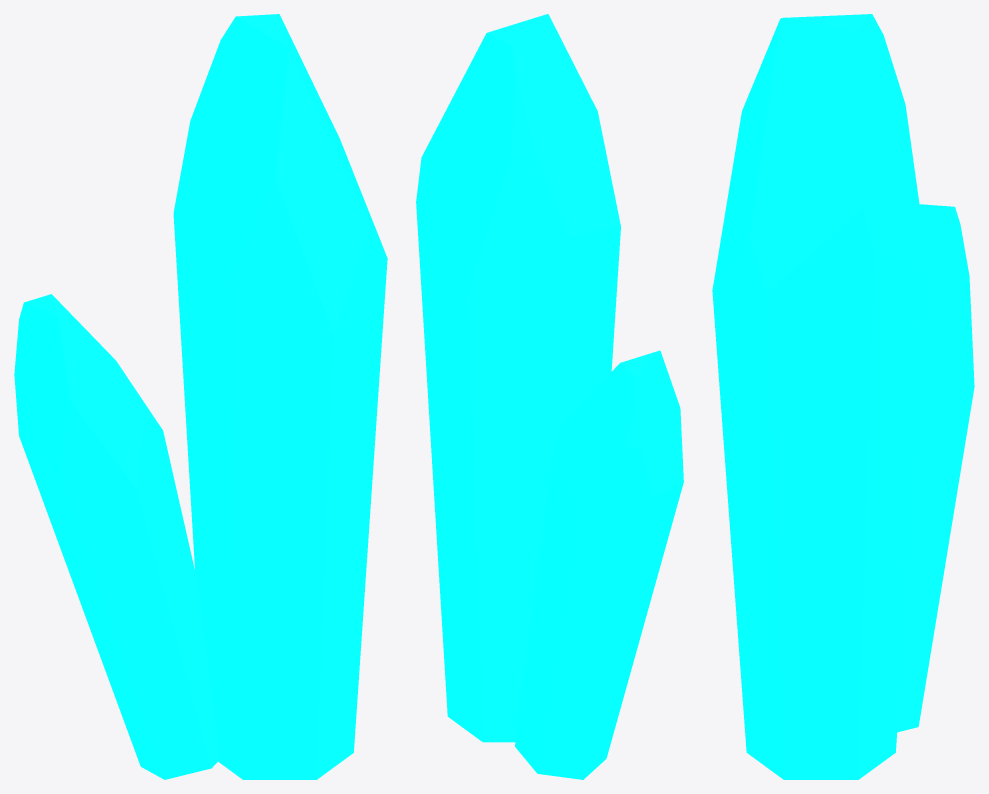
The model's file is HexStone02.fbx.
3 renders of one model, left to right at view 1: azimuth 30°, elevation 25°; view 2: azimuth 150°, elevation 25°; view 3: azimuth 270°, elevation 25°, orthographic. The views are drawn at different scales.
Parts seen in each view (by area): view 1: HexStoneBase.007, HexStoneBase.008; view 2: HexStoneBase.007, HexStoneBase.008; view 3: HexStoneBase.007, HexStoneBase.008.
Boxes of the visible parts, <box> form: HexStoneBase.007: <box>173,14,387,779</box>; HexStoneBase.008: <box>14,294,219,779</box>; HexStoneBase.007: <box>416,14,620,742</box>; HexStoneBase.008: <box>515,350,683,779</box>; HexStoneBase.007: <box>712,14,928,779</box>; HexStoneBase.008: <box>897,204,974,732</box>.
Bounding box in the file's own units: 120 × 299 × 95.6.
